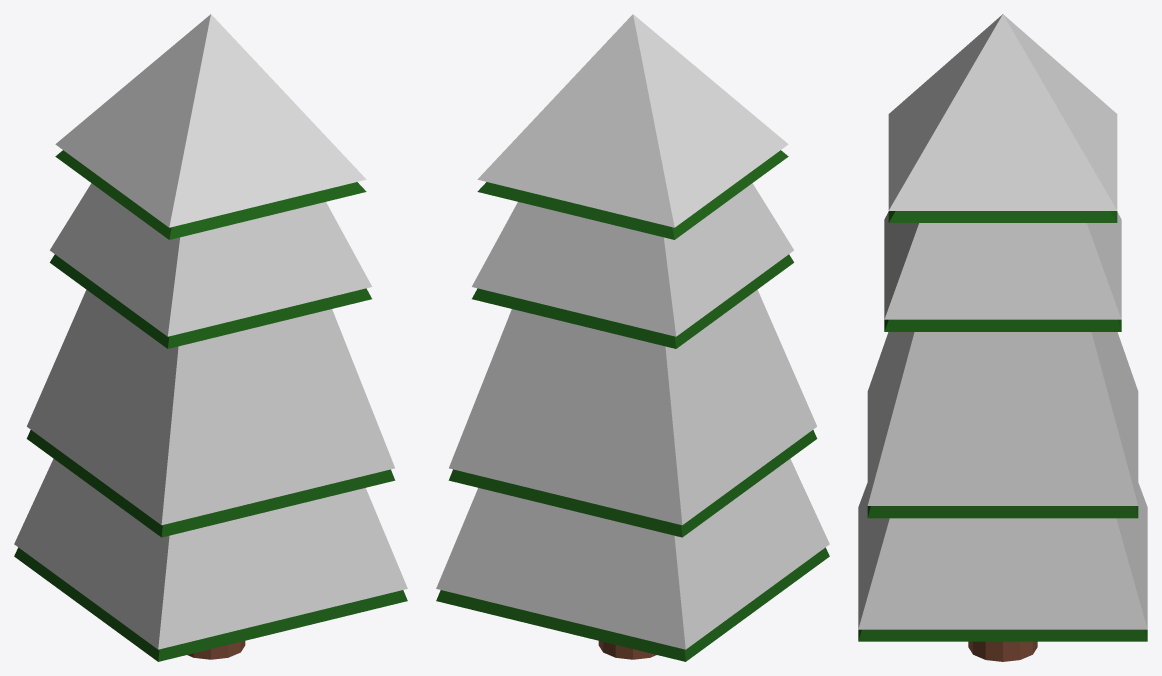
File: Tree_17_winter_mat.fbx
3 renders of one model, left to right at view 1: azimuth 30°, elevation 25°; view 2: azimuth 150°, elevation 25°; view 3: azimuth 270°, elevation 25°, orthographic.
Visible parts, largest first — view 1: Tree_17_winter_mat; view 2: Tree_17_winter_mat; view 3: Tree_17_winter_mat.
Boxes of the visible parts, left/top/right/bottom form: Tree_17_winter_mat: left=14, top=14, right=407, bottom=661; Tree_17_winter_mat: left=436, top=14, right=829, bottom=661; Tree_17_winter_mat: left=858, top=14, right=1147, bottom=661.
Bounding box in the file's own units: 65.5 × 158 × 65.5.
